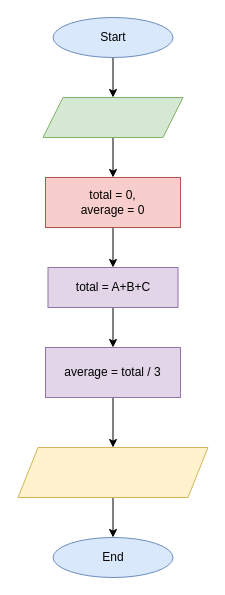
Some shapes in this 225 by 595 pixel diagram are drawn without their labels. Each missing label, with the centre of its shape:
Input A, B and C: pixel 112 117
Print "Total mark is "+total Print "Average is "+average: pixel 112 472
